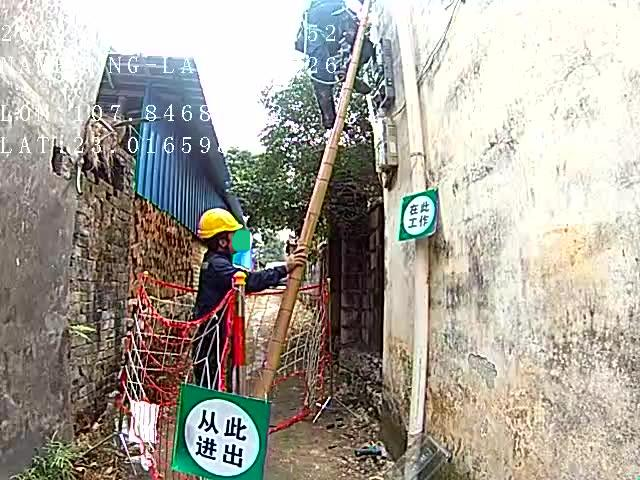halt: (199, 210, 247, 257)
